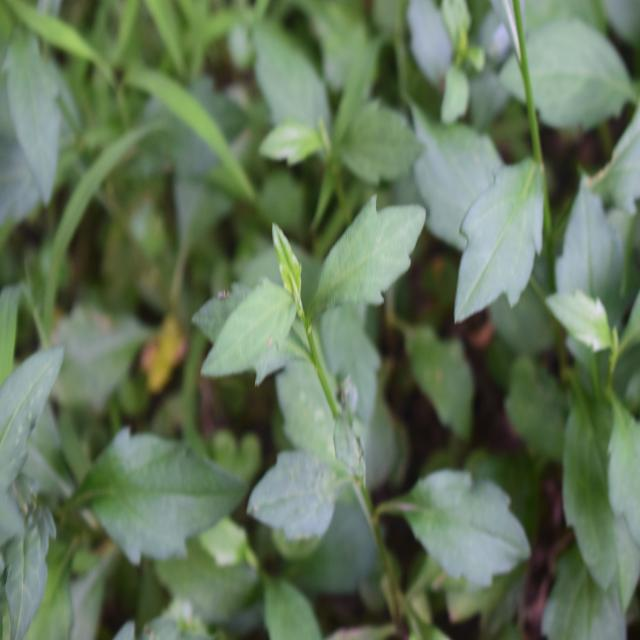Indian aster: (215, 215, 491, 595)
